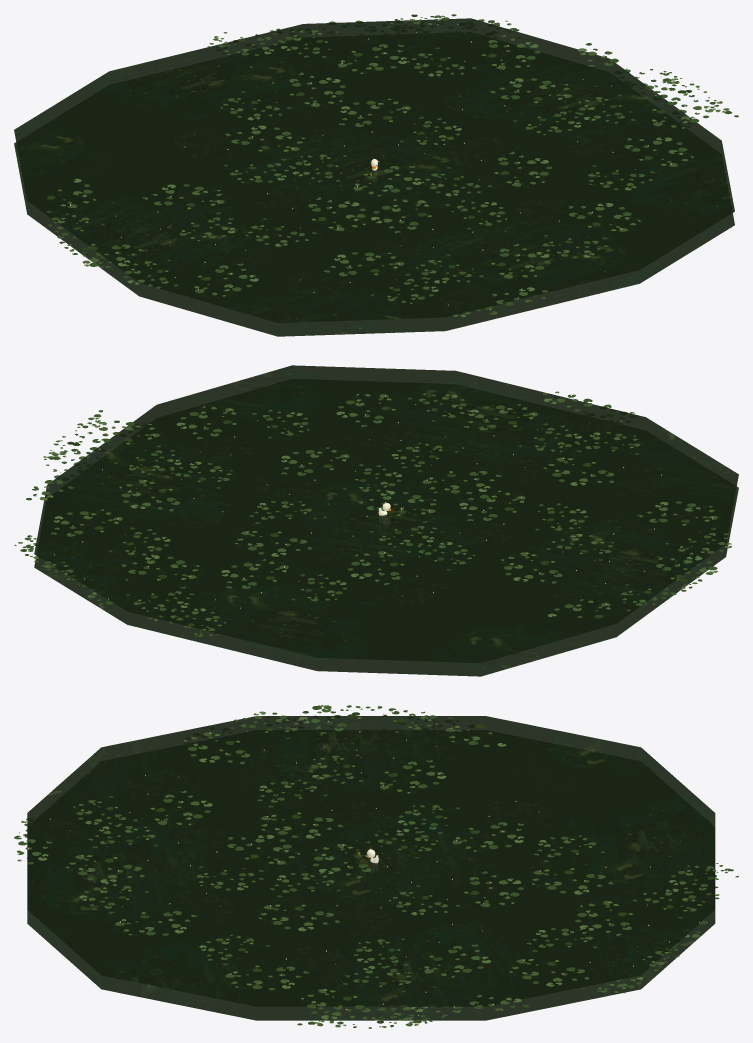
File: concerto.glb
The picture shows the model from 3 angles, top to bottom: view 1: azimuth 30°, elevation 25°; view 2: azimuth 150°, elevation 25°; view 3: azimuth 270°, elevation 25°; orthographic projection. The views are drawn at different scales.
Visible parts, largest first — view 1: Plane, Circle.007, Plane.001; view 2: Plane, Circle.007, Plane.001; view 3: Plane, Circle.007, Plane.001.
Part boxes in pixels (box(x1,y1,x2,y2)): Plane: box(14, 18, 734, 322); Circle.007: box(46, 14, 738, 317); Plane.001: box(14, 142, 734, 336); Plane: box(34, 365, 738, 663); Circle.007: box(14, 391, 732, 636); Plane.001: box(34, 486, 738, 676); Plane: box(27, 716, 715, 1006); Circle.007: box(14, 705, 738, 1028); Plane.001: box(27, 910, 715, 1020).
Size of the model in its own units: 148 by 5.59 by 140.
11 materials, 2 textured.
